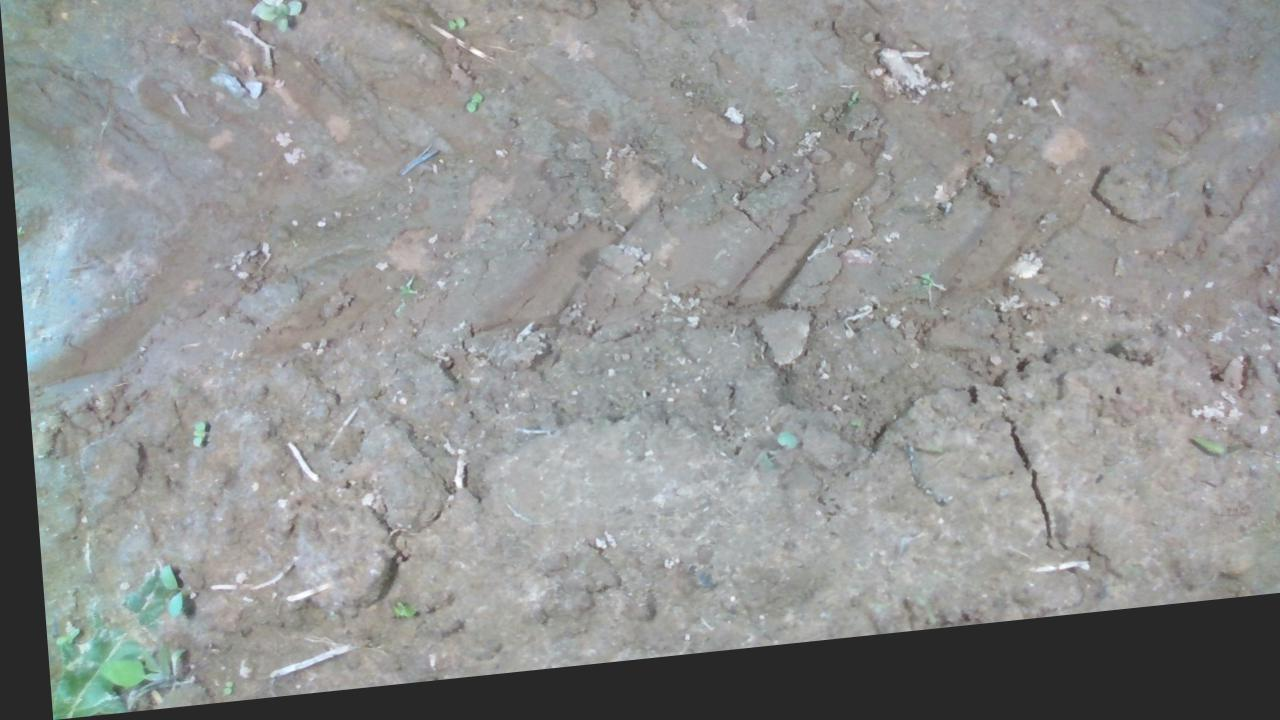weed: (181, 421, 200, 453), (460, 99, 480, 123), (443, 24, 464, 40)
